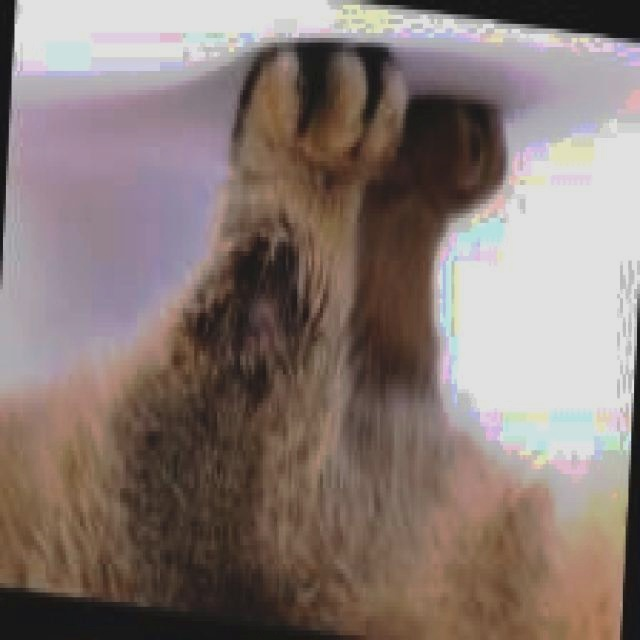ringworm: (227, 253, 283, 386)
